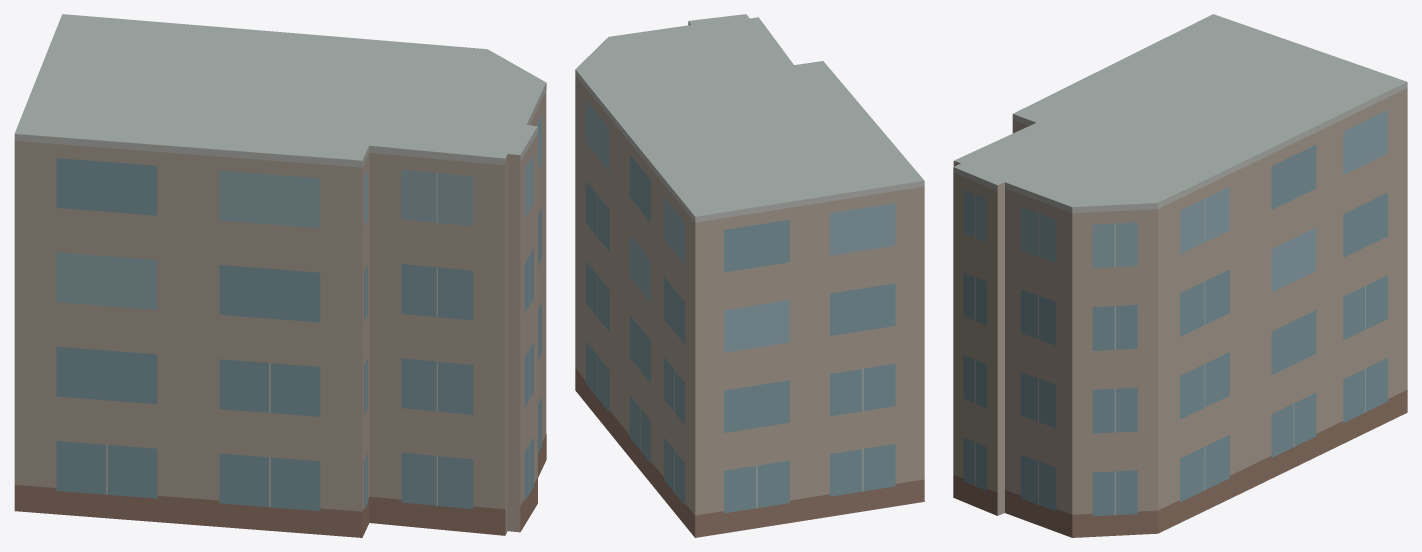
Rendered from survey-upis-32846001.glb.
3 views of the same model, side by side, from view 1: azimuth 30°, elevation 25°; view 2: azimuth 150°, elevation 25°; view 3: azimuth 270°, elevation 25° (orthographic). The views are drawn at different scales.
Parts seen in each view (by area): view 1: survey-upis-32846001.tmp; view 2: survey-upis-32846001.tmp; view 3: survey-upis-32846001.tmp.
Part boxes in pixels (x1,y1,x2,y2): survey-upis-32846001.tmp: [14, 14, 546, 537]; survey-upis-32846001.tmp: [575, 14, 924, 537]; survey-upis-32846001.tmp: [953, 14, 1407, 537].
Size of the model in its own units: 16.67 by 13.3 by 16.57.
